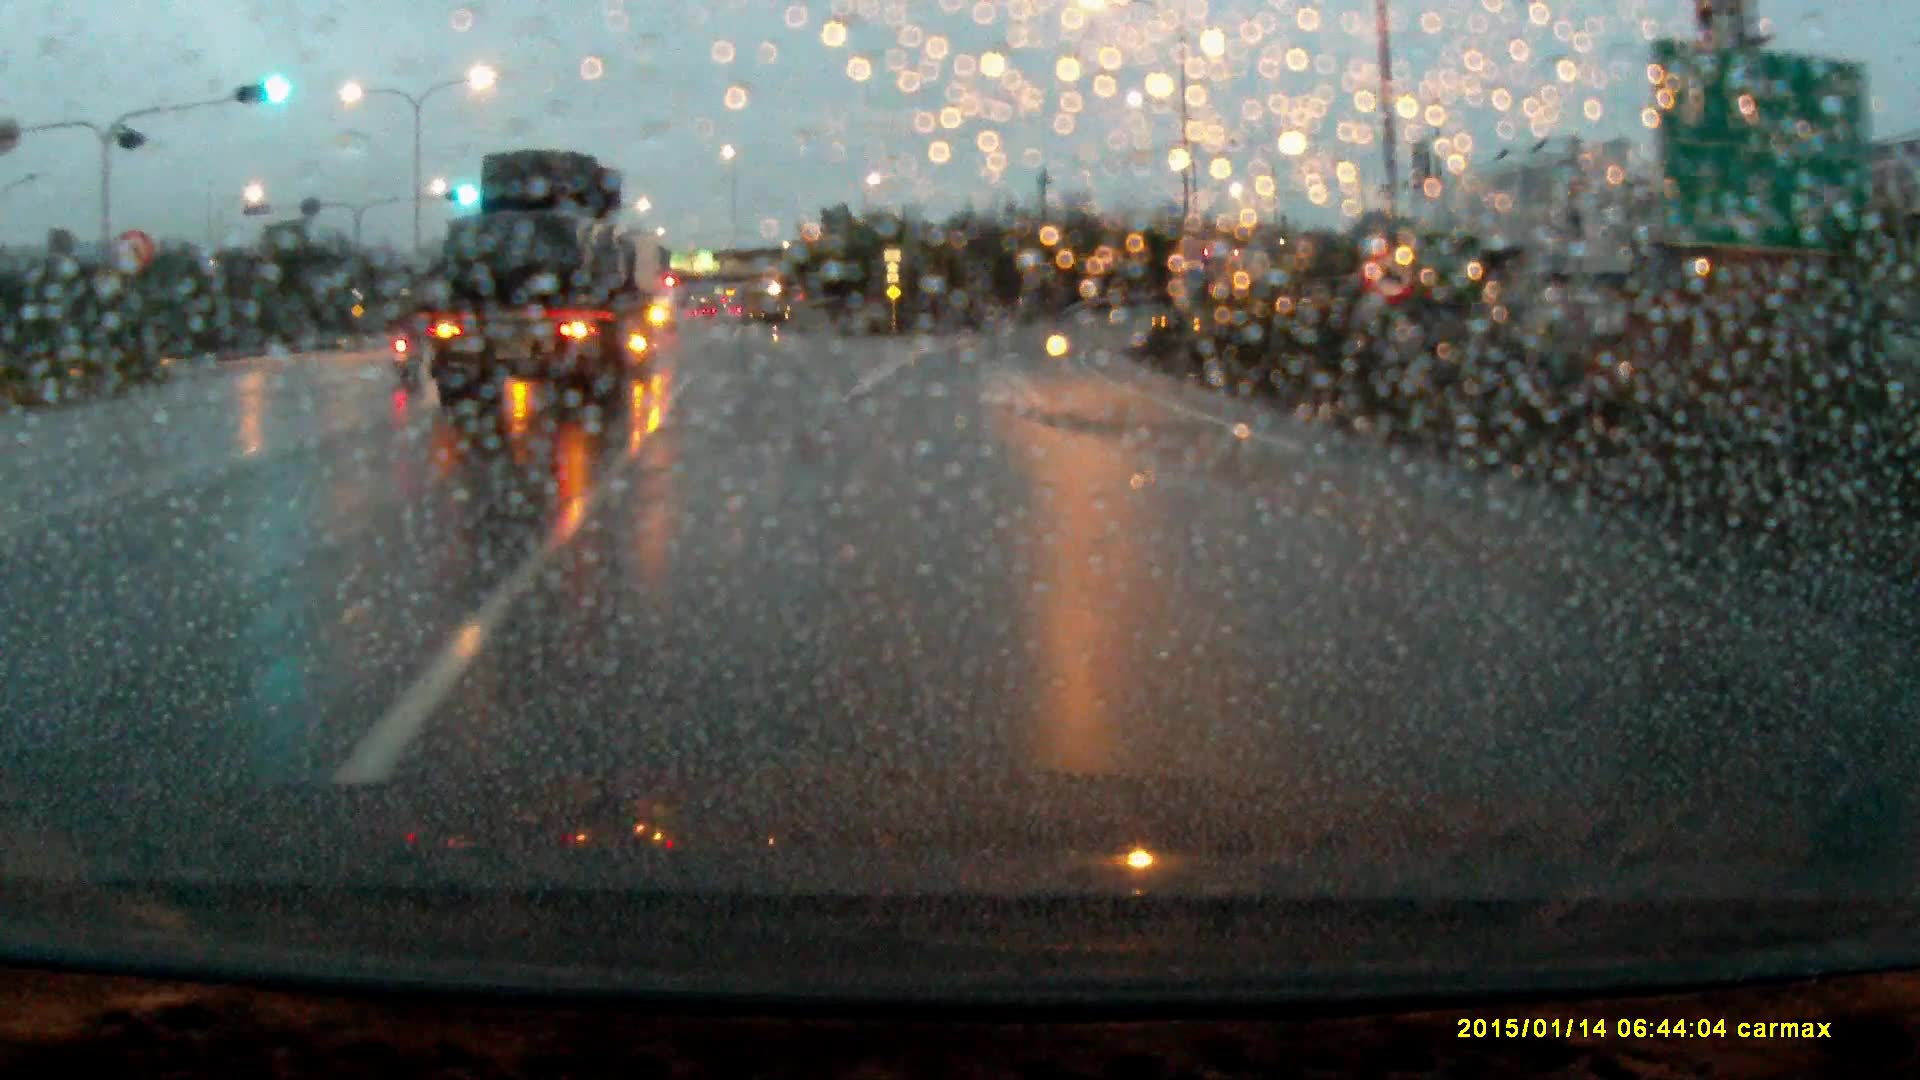rider: (382, 286, 433, 394)
vehicle: (430, 150, 661, 429)
